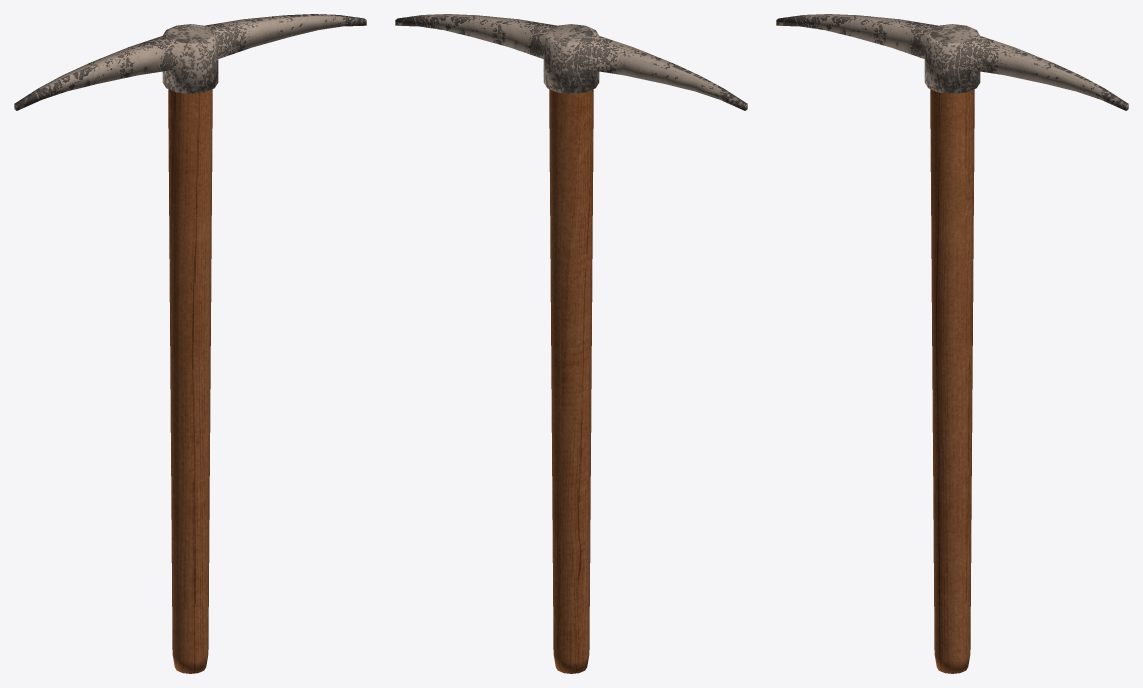
File: Pickaxe.glb
3 renders of one model, left to right at view 1: azimuth 30°, elevation 25°; view 2: azimuth 150°, elevation 25°; view 3: azimuth 330°, elevation 25°, orthographic.
Parts seen in each view (by area): view 1: Pickaxe; view 2: Pickaxe; view 3: Pickaxe.
Boxes of the visible parts, x1,y1,x2,y2 form: Pickaxe: (14,14,366,673); Pickaxe: (395,14,747,673); Pickaxe: (776,14,1128,673).
Bounding box in the file's own units: 0.3902 × 0.6745 × 0.054.
Materials: 1 (1 with a texture image).
